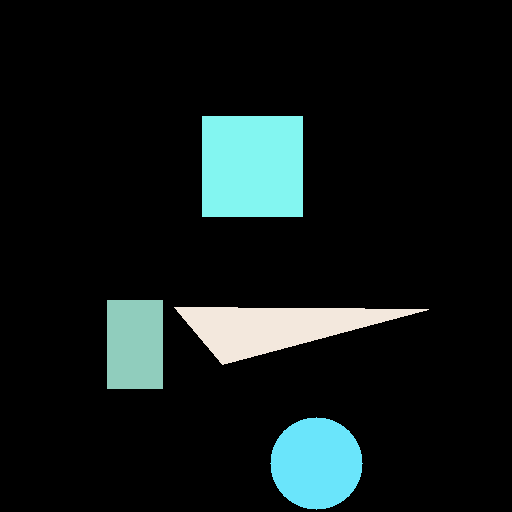circle: (270, 417, 362, 509)
rectangle: (107, 300, 162, 388)
square: (202, 116, 302, 216)
triangle: (174, 307, 428, 364)
